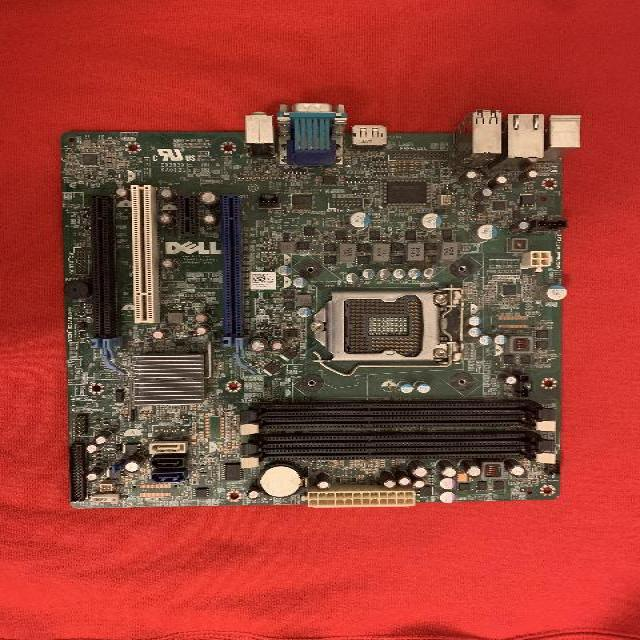Mainboard: (60, 103, 581, 509)
